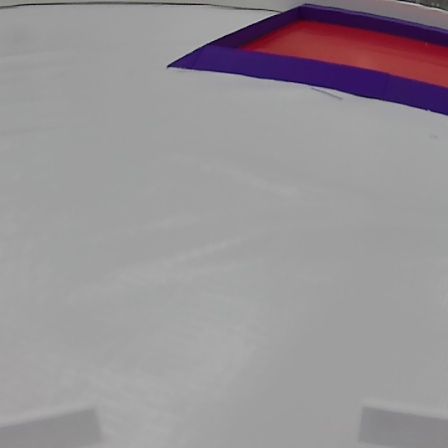red_aim: (167, 1, 448, 121)
